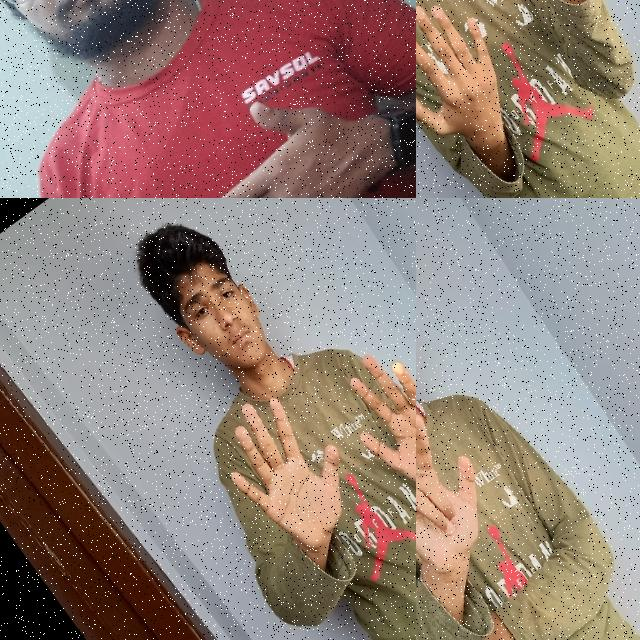Corna: (416, 404, 517, 603)
Five Fathers: (31, 34, 416, 198)
Moutza: (188, 362, 393, 580), (416, 0, 542, 172), (318, 323, 416, 527)
